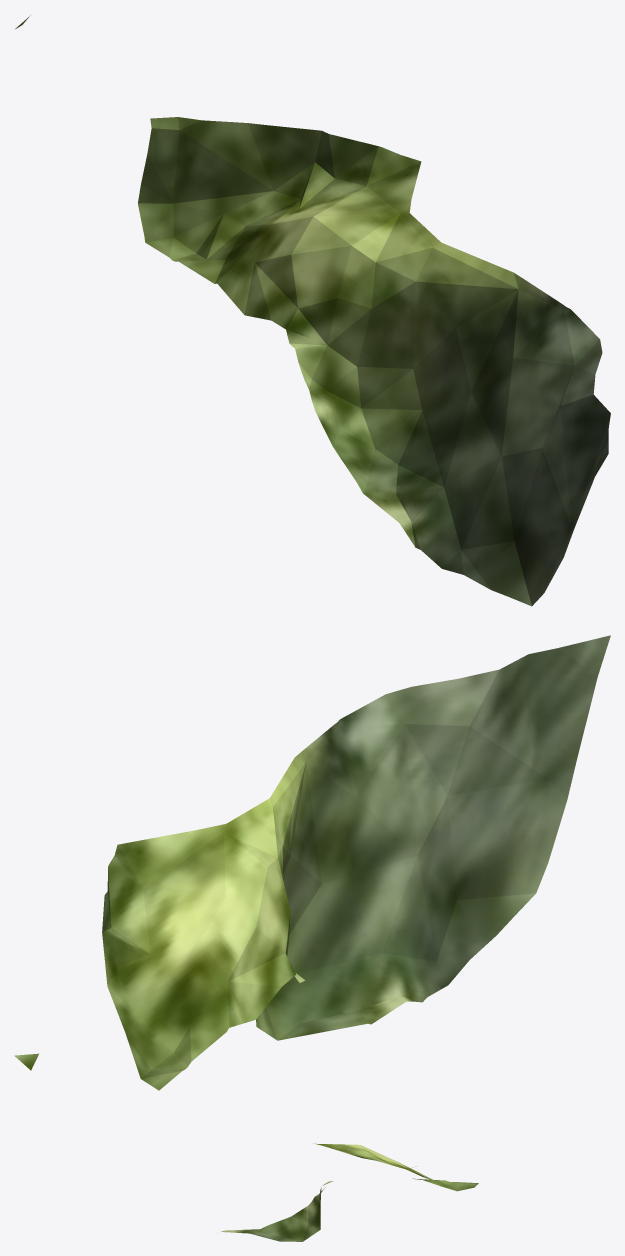
3 views of the same model, one above another, from view 1: azimuth 30°, elevation 25°; view 2: azimuth 150°, elevation 25°; view 3: azimuth 270°, elevation 25° (orthographic). The views are drawn at different scales.
Size of the model in its own units: 0.8294 by 1.18 by 5.36.
Materials: 1 (1 with a texture image).
